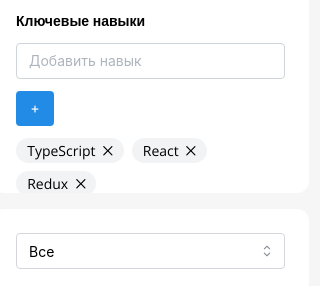
Scenario: FilterSidebar › Добавляет новый навык при клике на кнопку
The width and height of the screenshot is (320, 286).
Type "Vue" into the field with placeholder "Добавить навык" at coordinates (150, 61), box left=29, top=50, right=272, bottom=72
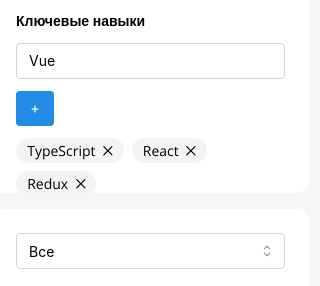
Click the button "+" at coordinates (35, 108), box left=16, top=91, right=54, bottom=126
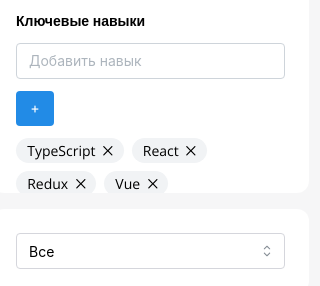
Result: the text "Vue" is shown at left=115, top=171, right=140, bottom=193
